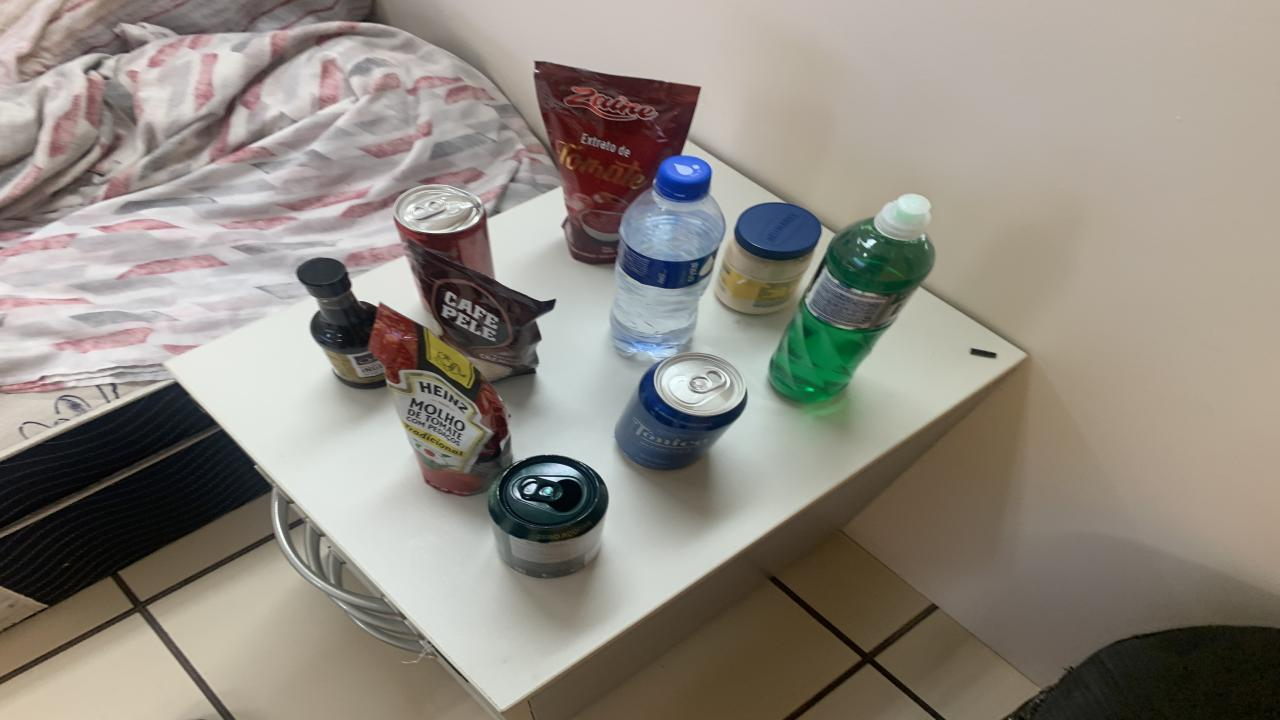Coffee-Pantry_Items: (405, 242, 555, 381)
Coke-Drinks: (395, 184, 492, 278)
Detergent-Cleanup_Items: (770, 195, 935, 401)
English_Sauce-Pantry_Items: (298, 257, 385, 388)
Guarana_Can-Drinks: (488, 456, 608, 578)
Mayonnaise-Pantry_Items: (715, 202, 822, 313)
Tomato_Sauce-Pantry_Items: (535, 62, 700, 264), (368, 304, 512, 495)
Tonic-Drinks: (615, 352, 748, 469)
Water_Bottle-Drinks: (610, 154, 725, 356)
